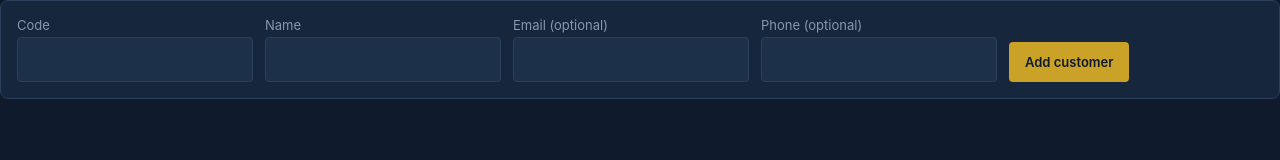
Test: CreateCustomerForm › shows an error message when the action fails
The width and height of the screenshot is (1280, 160).
In the field labelled "Code": (135, 60) [17,37,253,82], type "CUST-001"
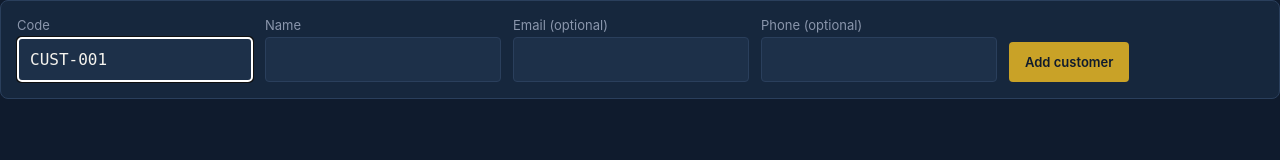
In the field labelled "Name": (383, 60) [265,37,501,82], type "Jane Doe"
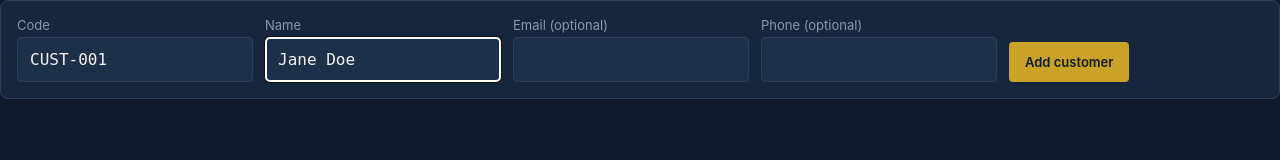
Click the button "Add customer": click(1069, 62) [1009,42,1129,82]
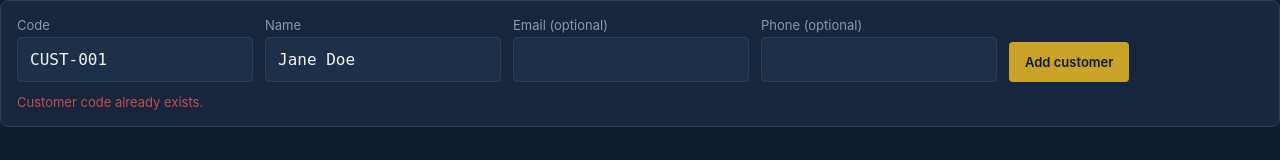
Expected: the text "Customer code already exists." is shown, [17,94,203,110]
